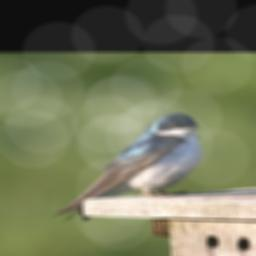Swallow: (51, 112, 205, 227)
